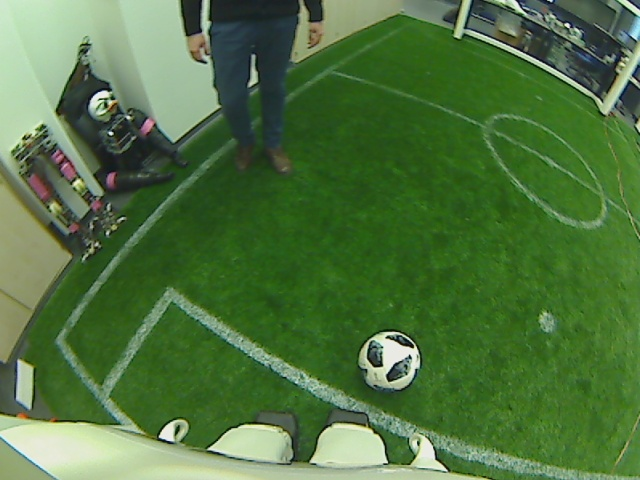ball: (357, 326, 422, 393)
